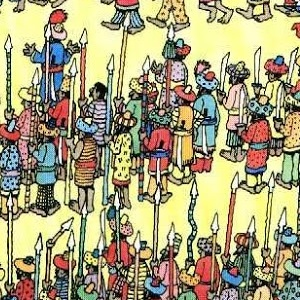Charlie: (213, 108, 253, 196)
Odlaw: (22, 107, 66, 193)
Wenda: (132, 106, 168, 194)
Wizard Whitebeard: (78, 103, 121, 195)
